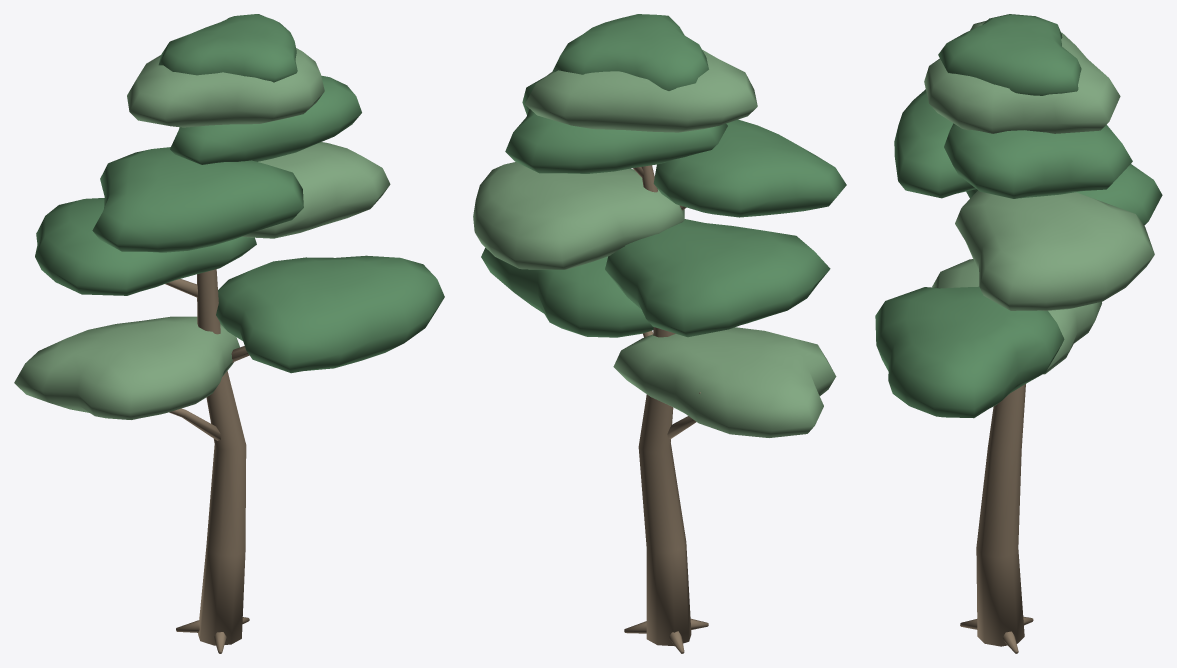
File: ENV_CoastalPine.fbx
3 renders of one model, left to right at view 1: azimuth 30°, elevation 25°; view 2: azimuth 150°, elevation 25°; view 3: azimuth 270°, elevation 25°, orthographic. The views are drawn at different scales.
Visible parts, largest first — view 1: ENV_CoastalPine_Root_Visual; view 2: ENV_CoastalPine_Root_Visual; view 3: ENV_CoastalPine_Root_Visual.
Part boxes in pixels (<box>): ENV_CoastalPine_Root_Visual: <box>14,14,444,653</box>; ENV_CoastalPine_Root_Visual: <box>473,14,846,653</box>; ENV_CoastalPine_Root_Visual: <box>875,14,1162,653</box>.
Bounding box in the file's own units: 302 × 460 × 194.
